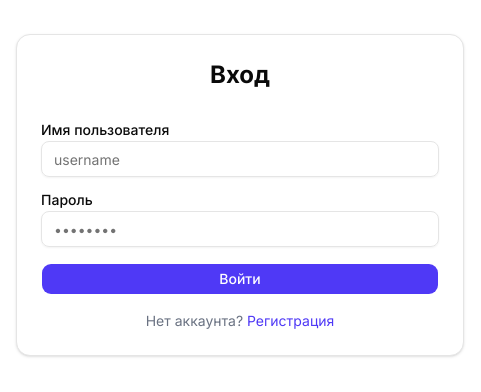
Test: LoginPage › shows generic error when no detail
Type "u" into the field with placeholder "username".
click(240, 159); type("u")  # box 41,141 -> 439,177
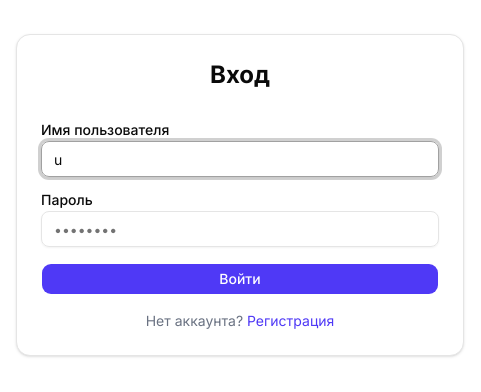
Type "p" into the password field with placeholder "••••••••".
click(240, 229); type("p")  # box 41,211 -> 439,247
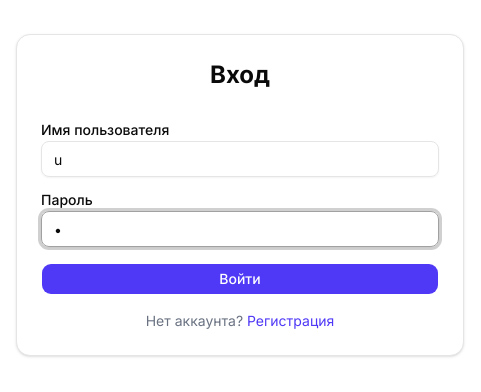
Click the button "Войти".
click(240, 279)  # box 41,263 -> 439,295
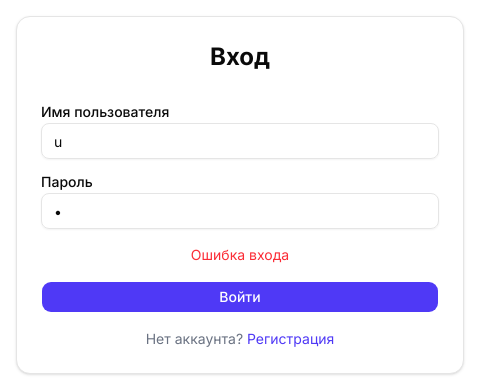
Result: the text "Ошибка входа" is shown at 191,246 -> 289,263
